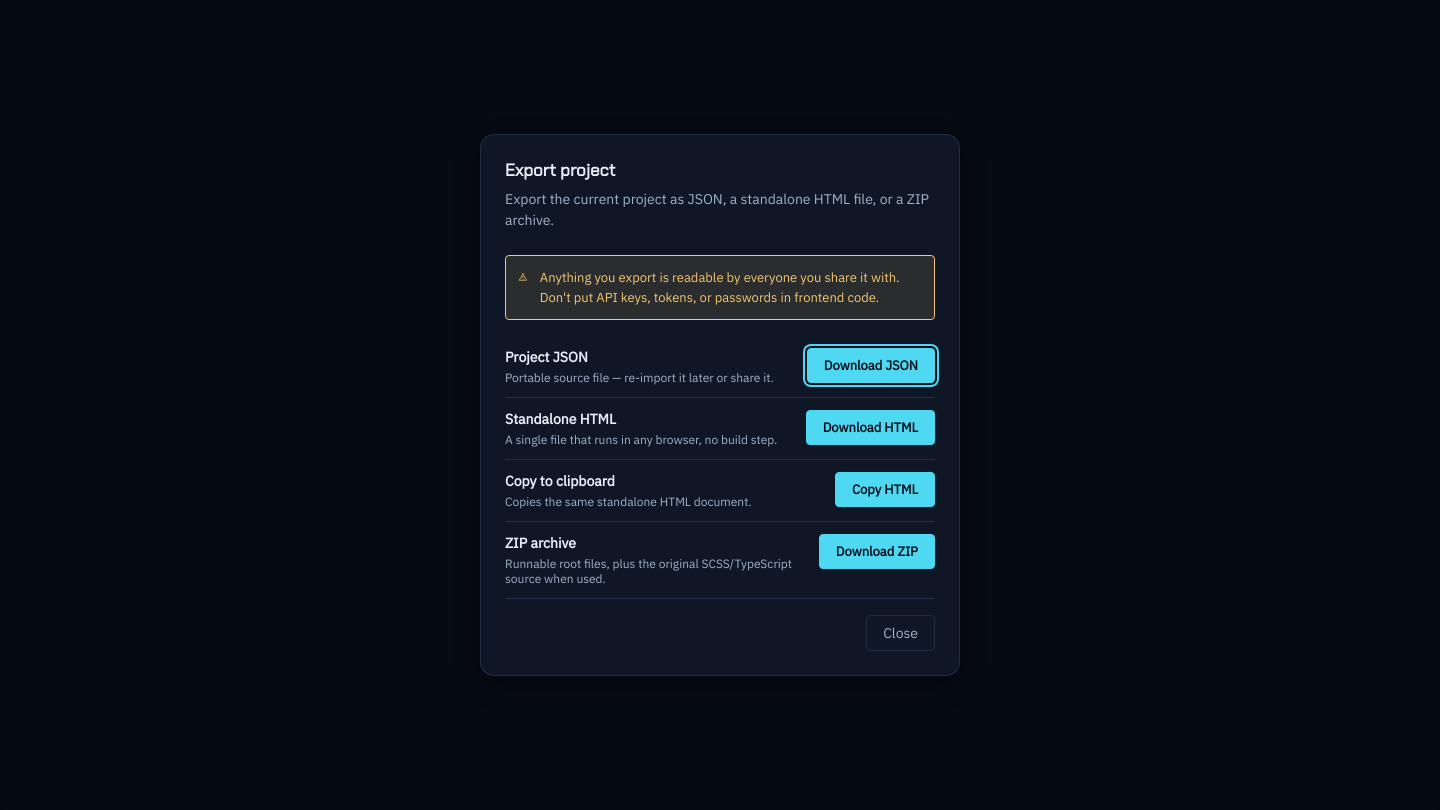
Test: ExportDialog › reports an unexpected failure from Download HTML instead of staying busy
What coordinates should you click on to do the following:
click the button "Download HTML"
I would click on:
 (870, 428)
Its box is [806,410,935,445].
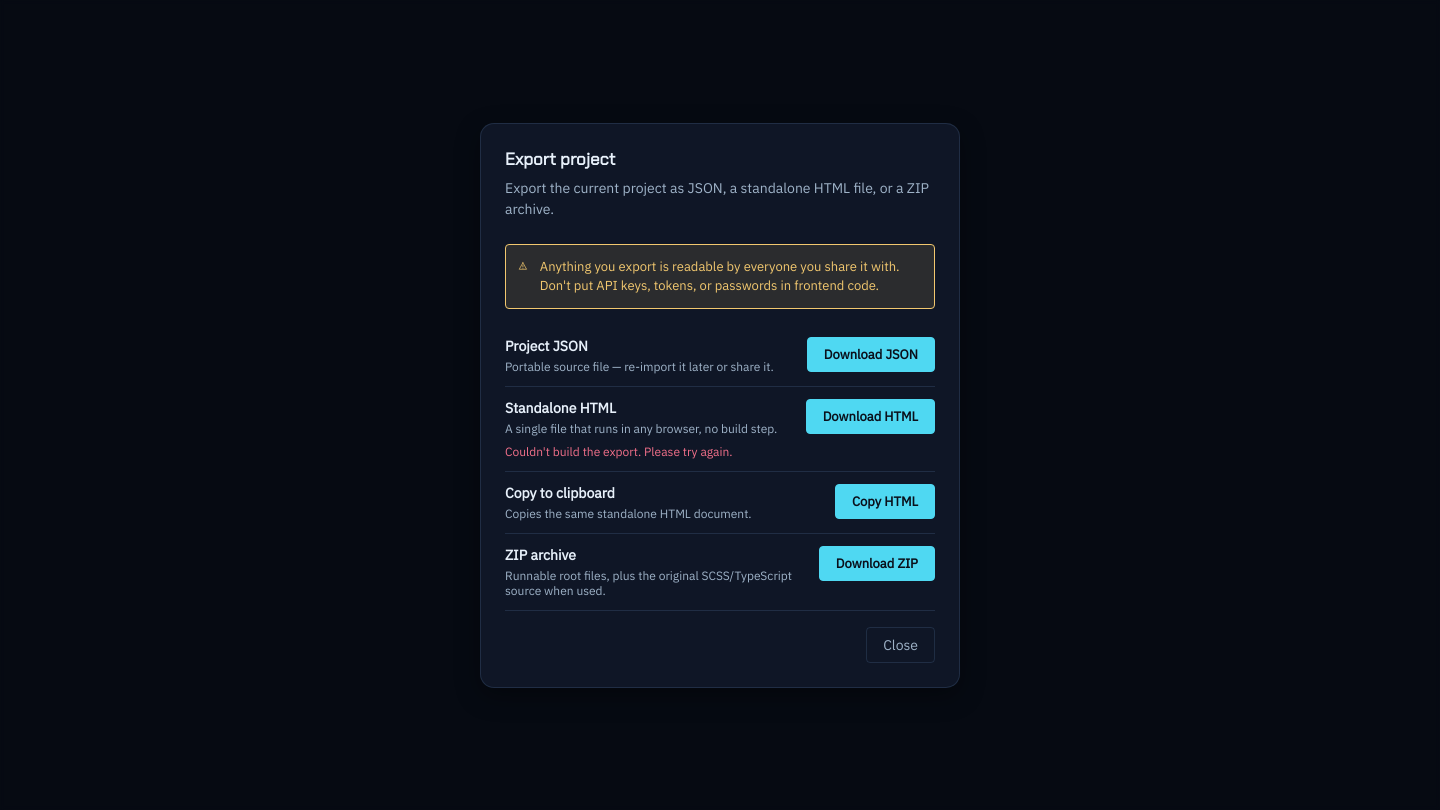
Expected: the button "Download HTML" is enabled, [806,398,935,434]
Expected: the message shows "Couldn't build the export.", [505,444,733,458]
